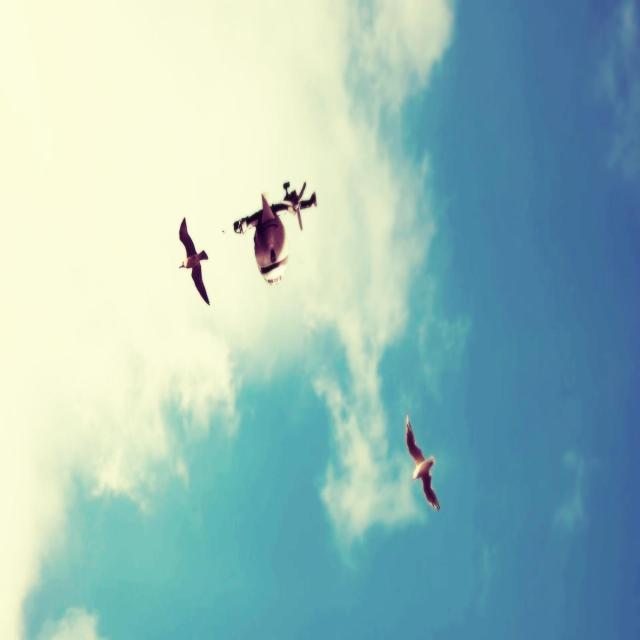airplane: (233, 180, 317, 286)
